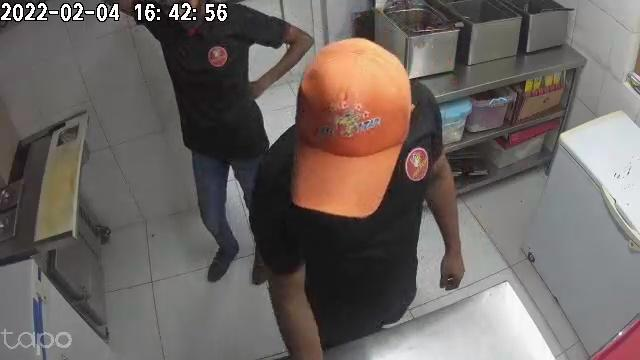no_gloves: (441, 237, 465, 295)
